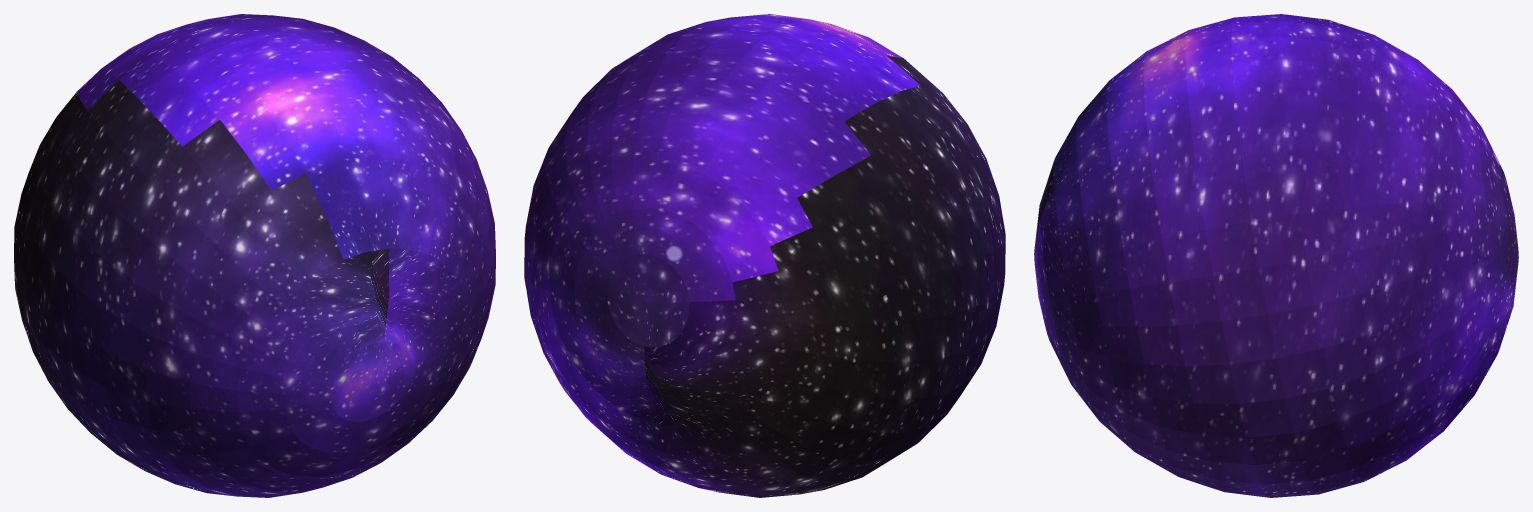
The model's file is untitledv4.fbx.
3 views of the same model, side by side, from view 1: azimuth 30°, elevation 25°; view 2: azimuth 150°, elevation 25°; view 3: azimuth 270°, elevation 25° (orthographic).
Visible parts, largest first — view 1: Sphere; view 2: Sphere; view 3: Sphere.
Boxes of the visible parts, bbox=[...] form: Sphere: bbox=[14, 14, 495, 497]; Sphere: bbox=[524, 14, 1005, 497]; Sphere: bbox=[1034, 14, 1518, 497].
Bounding box in the file's own units: 3.34 × 3.34 × 3.34.
